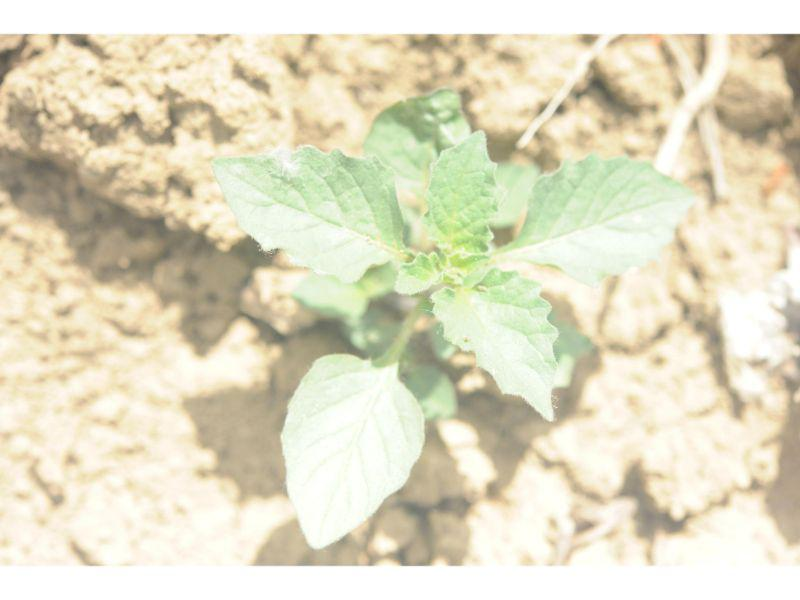nightshade: (209, 88, 696, 549)
